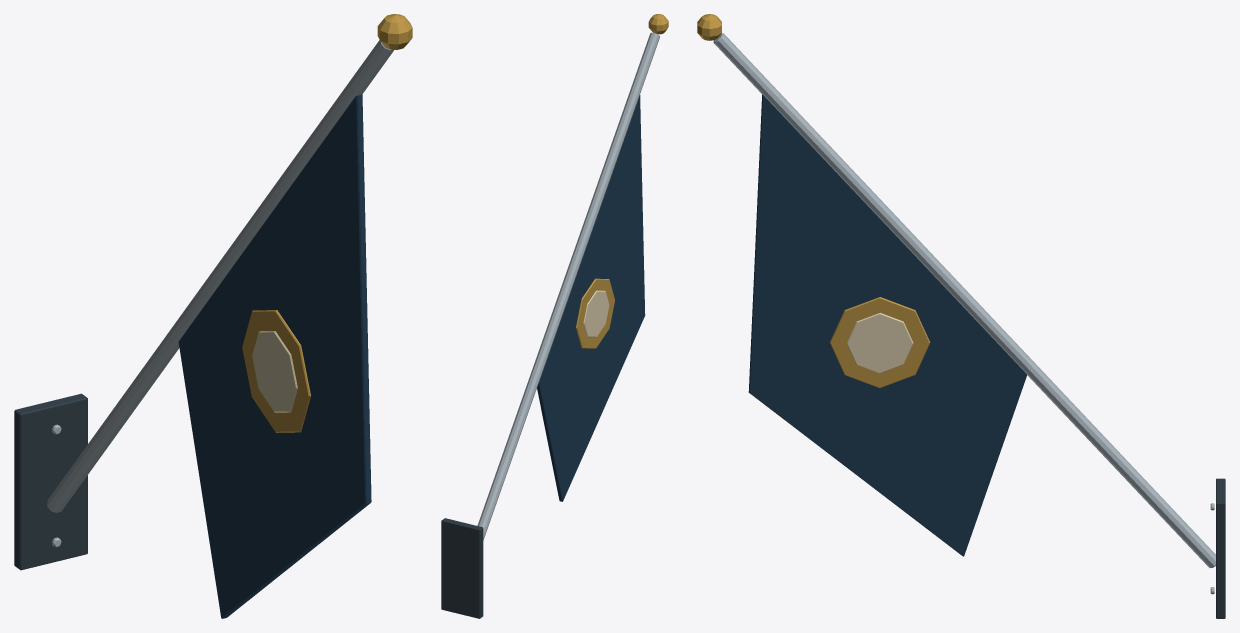
The model's file is b18_angled_building_flagpole.glb.
3 views of the same model, side by side, from view 1: azimuth 30°, elevation 25°; view 2: azimuth 150°, elevation 25°; view 3: azimuth 270°, elevation 25° (orthographic). The views are drawn at different scales.
Visible parts, largest first — view 1: b18_angled_building_flagpole; view 2: b18_angled_building_flagpole; view 3: b18_angled_building_flagpole.
Part boxes in pixels (<box>): b18_angled_building_flagpole: <box>14,14,412,618</box>; b18_angled_building_flagpole: <box>441,14,668,618</box>; b18_angled_building_flagpole: <box>697,14,1225,618</box>.
Bounding box in the file's own units: 0.21 × 2.34 × 1.89.
